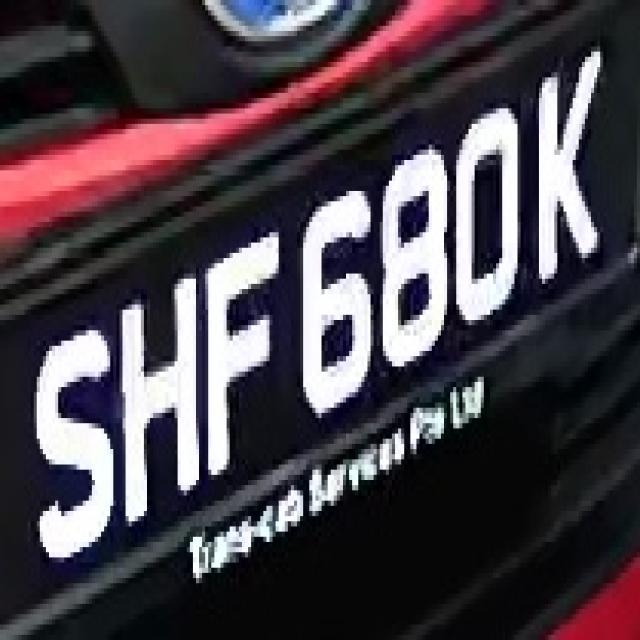0: (441, 98, 530, 336)
6: (300, 181, 380, 423)
8: (374, 134, 447, 387)
F: (193, 222, 291, 490)
H: (107, 279, 211, 516)
K: (524, 36, 606, 315)
S: (28, 320, 120, 568)
